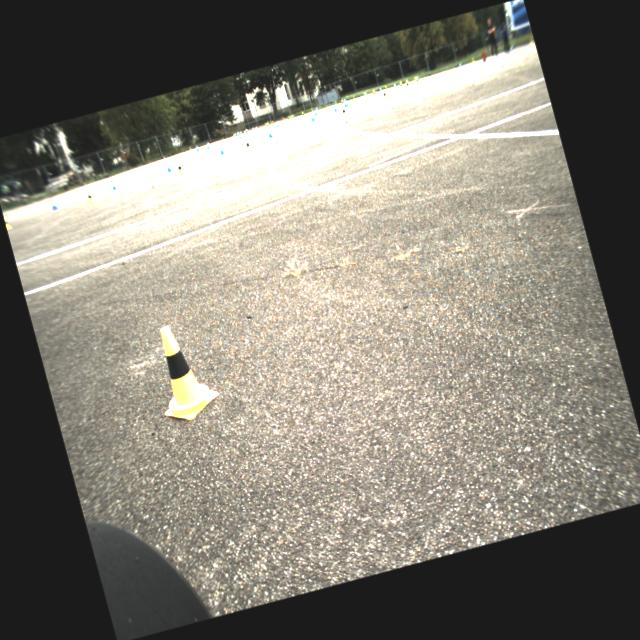blue_cone: (49, 197, 59, 210), (109, 178, 118, 190), (164, 160, 172, 172), (217, 142, 225, 154), (308, 110, 316, 122), (266, 126, 274, 137), (331, 102, 337, 111), (343, 99, 349, 108), (312, 107, 318, 115), (508, 44, 514, 50), (196, 144, 200, 152), (342, 99, 346, 107), (274, 120, 279, 126), (238, 132, 243, 138), (206, 142, 210, 148), (236, 130, 240, 136), (392, 82, 396, 88), (458, 62, 462, 68), (364, 91, 368, 96), (195, 144, 198, 150), (243, 128, 246, 134), (379, 86, 382, 92), (232, 133, 235, 138), (255, 125, 258, 130), (315, 105, 318, 110), (207, 142, 210, 146), (238, 130, 240, 136), (290, 114, 293, 118), (252, 126, 254, 131)
yellow_cone: (142, 318, 222, 426), (85, 190, 96, 204), (175, 161, 185, 175), (243, 138, 253, 152), (4, 214, 12, 230), (339, 105, 348, 118), (381, 88, 388, 101), (404, 78, 411, 90), (414, 76, 420, 86), (398, 80, 404, 89), (264, 121, 270, 130), (528, 36, 534, 44), (233, 132, 238, 140), (470, 56, 475, 64), (372, 89, 376, 98), (301, 110, 305, 118), (340, 98, 344, 106), (383, 84, 388, 90), (240, 130, 243, 138), (282, 116, 286, 122), (286, 115, 290, 121), (352, 94, 356, 100), (362, 91, 366, 97), (310, 108, 314, 112), (271, 119, 274, 124), (289, 114, 292, 119), (264, 121, 266, 128), (292, 114, 295, 118), (270, 120, 272, 125), (334, 100, 336, 104)
